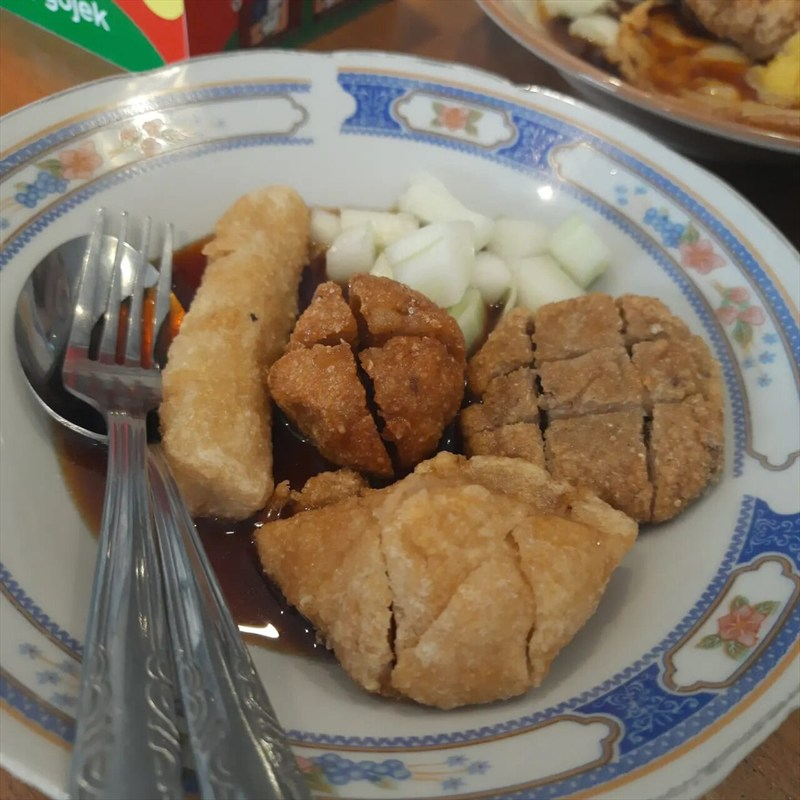Pempek: (72, 16, 713, 641)
